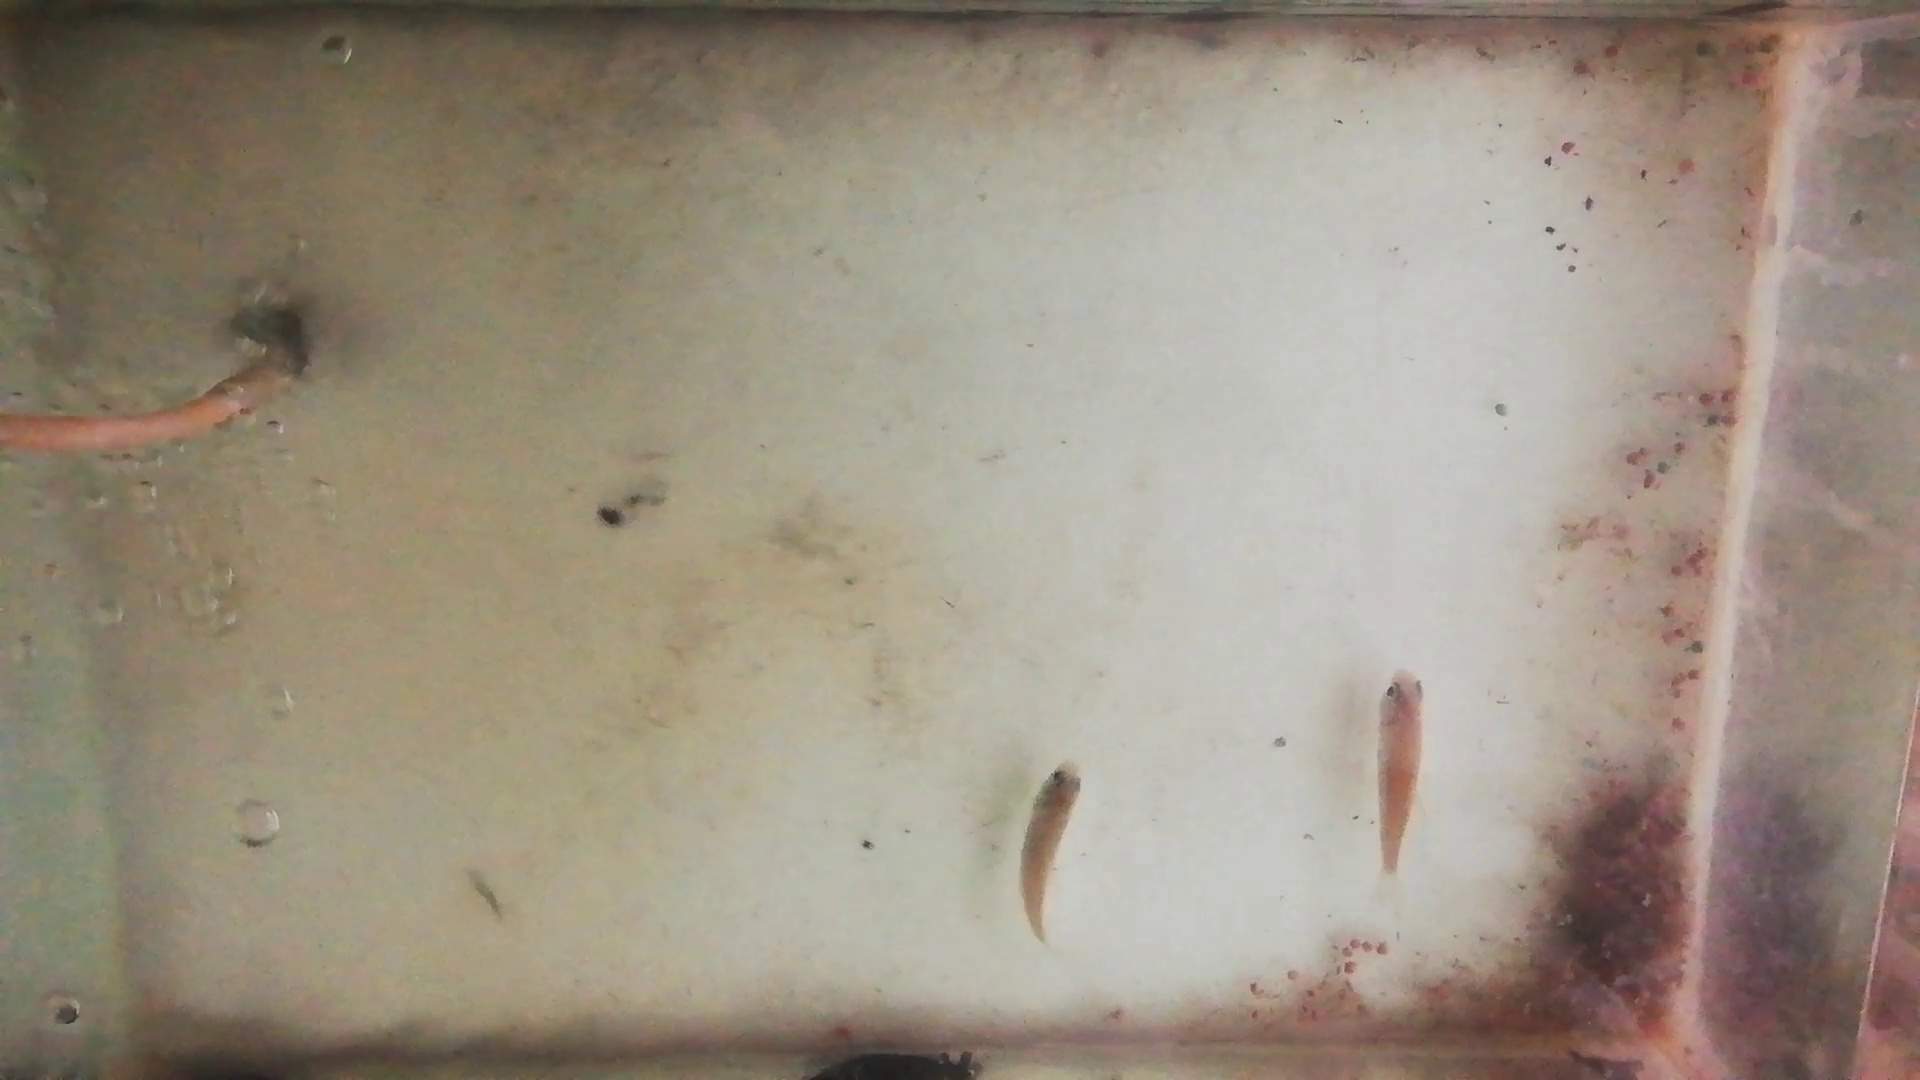fish: (1375, 670, 1427, 874), (1021, 762, 1079, 940)
